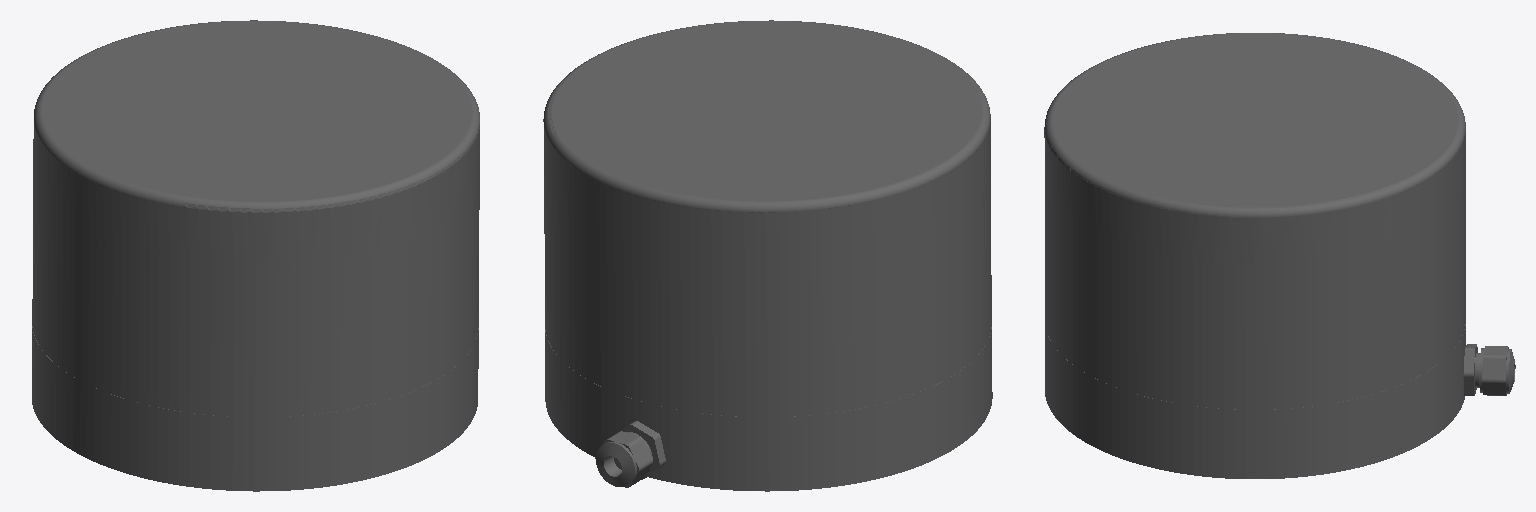
robot.urdf — mti_6xx:
<?xml version="1.0"?>
<robot name="mti_6xx">
  <link name="imu_link">
    <visual>
      <origin rpy="-1.57079632679 0 1.57079632679" xyz="0 0 0.0016"/>
      <geometry>
        <mesh filename="package://xsens_mti_ros2_driver/urdf/MTi_6xx.stl" scale="0.001 0.001 0.001"/>
      </geometry>
      <material name="xsens_orange">
        <color rgba="0.92 0.45 0.02 1.0"/>
      </material>
    </visual>
  </link>


  <link name="vlp16_front">
    <visual>
      <origin rpy="1.57079632679 0 1.57079632679" xyz="0 0 -0.0339"/>
      <geometry>
        <mesh filename="package://xsens_mti_ros2_driver/urdf/velodyne-vlp16.stl" scale="0.001 0.001 0.001"/>
      </geometry>
      <material name="xsens_gray">
        <color rgba="0.45 0.45 0.45 1.0"/>
      </material>
    </visual>
  </link>


  <joint name="lidar_imu" type="fixed">
    <parent link="imu_link" />
    <child link="vlp16_front" />
    <!-- Calibration -->
    <origin xyz="0.005593697569844 0.002109367719277 -0.072895368036261 " rpy="0.0002889054550105368 0.007577368810653143 -0.07620471550025973" />
  </joint>
</robot>

--- What the picture shows (computed from the rendered views, not written in the file) ---
3 views of the same robot in one strip: view 1: azimuth 30°, elevation 25°; view 2: azimuth 150°, elevation 25°; view 3: azimuth 270°, elevation 25° (orthographic).
Robot: mti_6xx — 2 links, 1 joints (1 fixed); root link imu_link; default pose: every joint at zero.
Links seen in each view (by area): view 1: vlp16_front; view 2: vlp16_front; view 3: vlp16_front.
Link boxes in pixels (x1,y1,x2,y2): vlp16_front: [32, 20, 479, 491]; vlp16_front: [543, 20, 992, 491]; vlp16_front: [1044, 33, 1515, 478].
Size in the robot's own frame: 0.1035 by 0.1151 by 0.0735 metres.
1 mesh visuals loaded from 2 distinct referenced files (1 binary STL); not drawn: 1 (reference not matched to a file when rendering).
